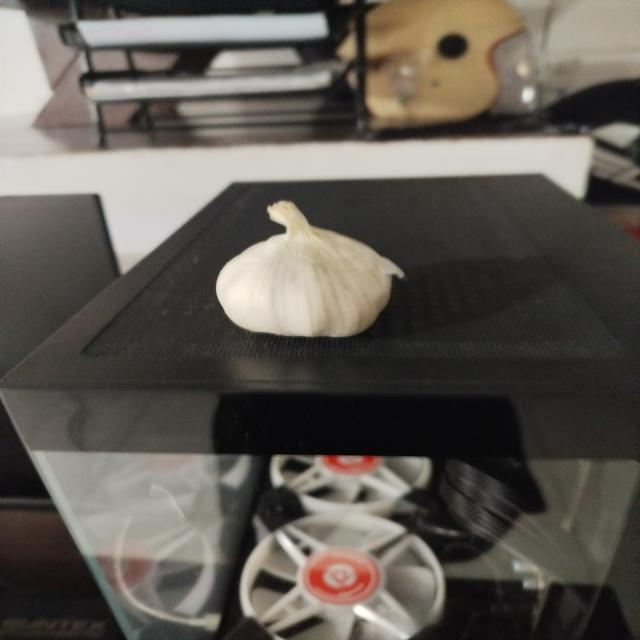garlic: (215, 200, 406, 338)
